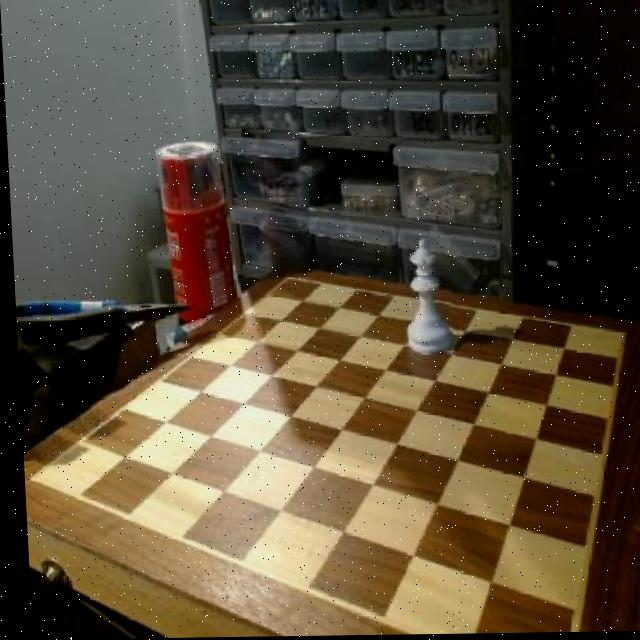white-pawn: (396, 239, 450, 361)
